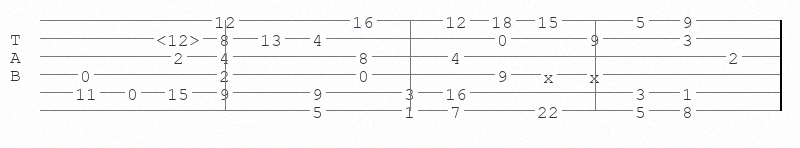0: (80, 67, 95, 82), (127, 85, 142, 100), (358, 67, 373, 82), (497, 31, 512, 46)
1: (404, 103, 419, 118), (682, 85, 697, 100)
11: (75, 85, 101, 100)
12: (214, 13, 240, 28), (445, 13, 471, 28)
13: (260, 31, 286, 46)
15: (167, 85, 193, 100), (537, 13, 563, 28)
16: (352, 13, 378, 28), (445, 85, 471, 100)
18: (491, 13, 517, 28)
2: (173, 49, 188, 64), (219, 67, 234, 82), (728, 49, 743, 64)
22: (537, 103, 563, 118)
3: (404, 85, 419, 100), (635, 85, 650, 100), (682, 31, 697, 46)
4: (219, 49, 234, 64), (312, 31, 327, 46), (450, 49, 465, 64)
5: (312, 103, 327, 118), (635, 13, 650, 28), (635, 103, 650, 118)
7: (450, 103, 465, 118)
8: (219, 31, 234, 46), (358, 49, 373, 64), (682, 103, 697, 118)
9: (219, 85, 234, 100), (312, 85, 327, 100), (497, 67, 512, 82), (589, 31, 604, 46), (682, 13, 697, 28)
harmonic: (156, 31, 204, 46)
x: (543, 68, 558, 80), (589, 68, 604, 80)
